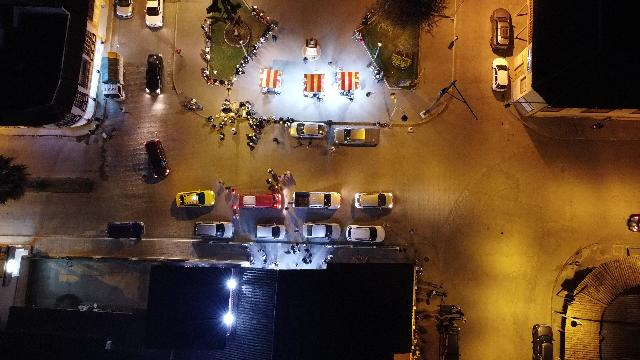Vehiculo: (101, 52, 129, 102), (144, 138, 170, 178), (489, 8, 513, 50), (334, 127, 380, 147), (532, 322, 556, 360), (294, 191, 340, 209), (303, 223, 342, 243), (236, 193, 282, 209), (145, 54, 163, 94), (176, 189, 214, 207), (346, 225, 384, 243), (194, 221, 233, 238), (256, 216, 286, 238), (289, 122, 327, 139), (355, 192, 393, 209), (108, 221, 144, 238), (144, 0, 164, 28), (492, 57, 508, 90), (114, 0, 134, 20)
